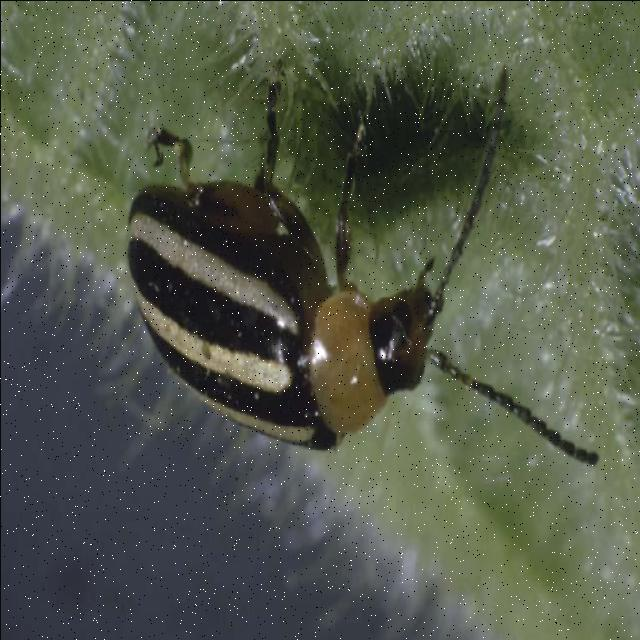trips: (126, 62, 596, 466)
